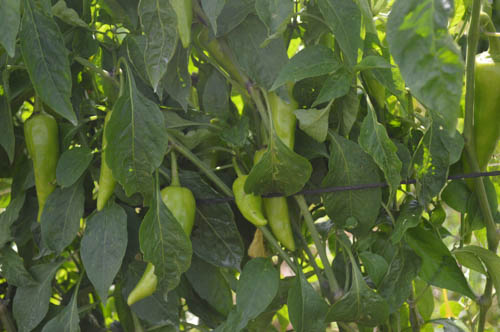ChiliPepper: (126, 187, 199, 306), (463, 56, 496, 193), (22, 115, 62, 225), (258, 147, 296, 251), (258, 68, 294, 151), (94, 112, 122, 214), (231, 174, 268, 227)
